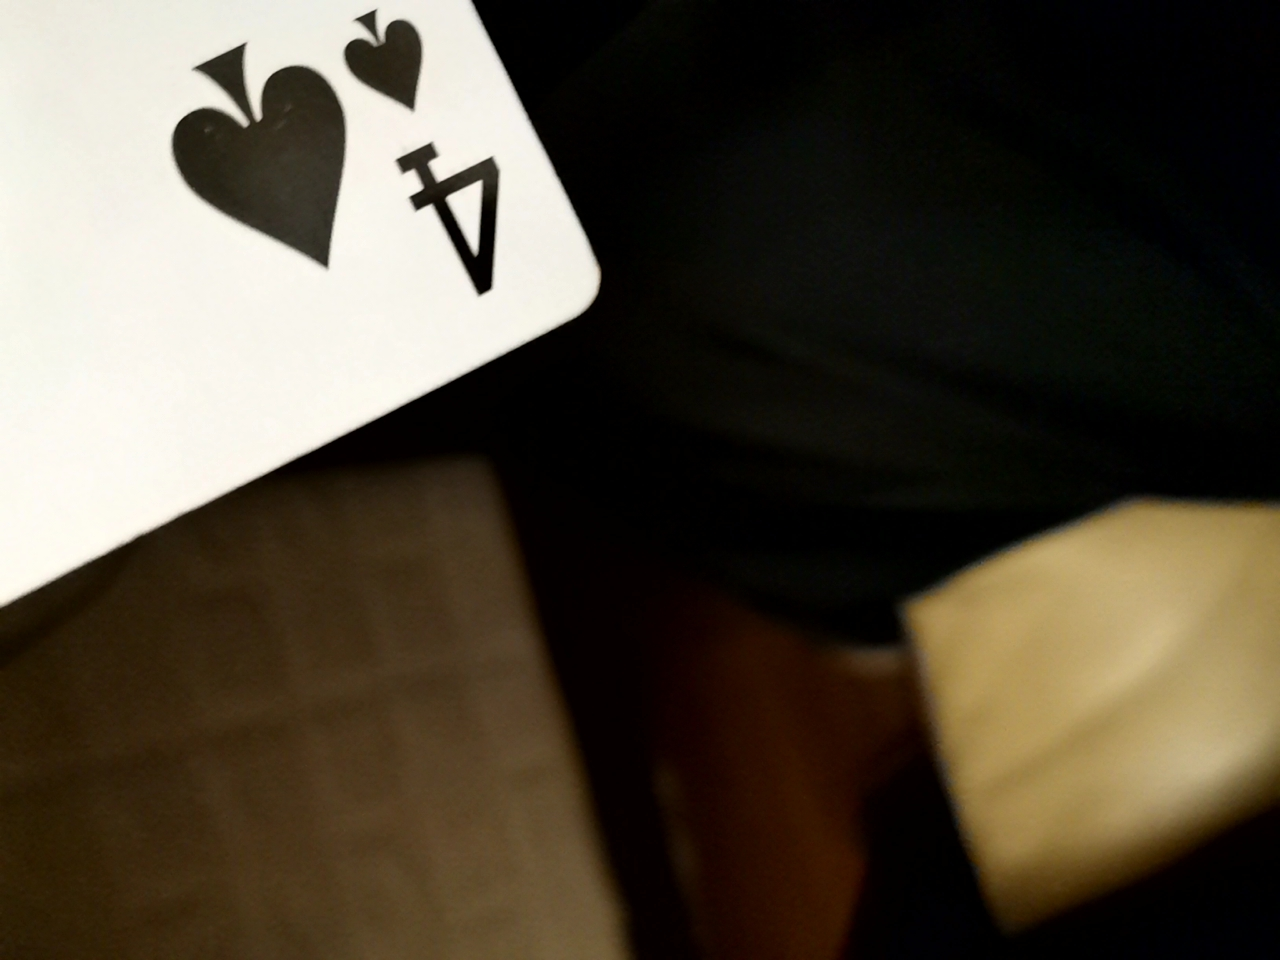ht 4: (7, 5, 629, 727)
